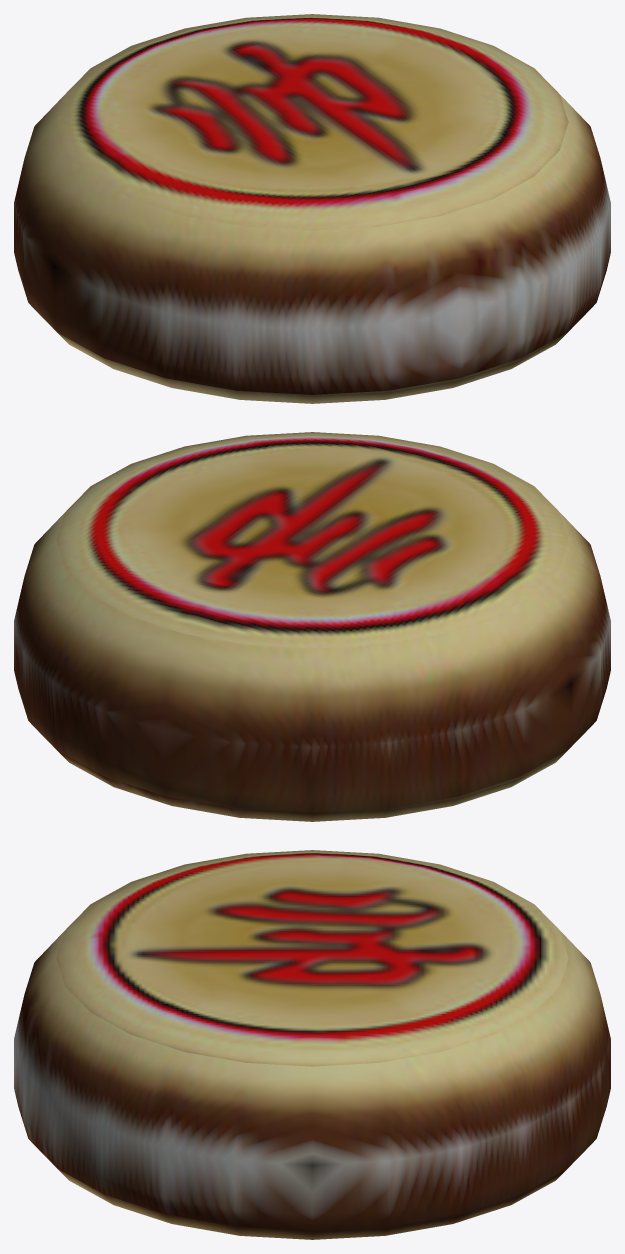
File: Red_27_general.gltf
3 renders of one model, top to bottom at view 1: azimuth 30°, elevation 25°; view 2: azimuth 150°, elevation 25°; view 3: azimuth 270°, elevation 25°, orthographic.
Parts seen in each view (by area): view 1: Red_27_general; view 2: Red_27_general; view 3: Red_27_general.
Part boxes in pixels (left/top/right/bottom): Red_27_general: left=14, top=14, right=610, bottom=403; Red_27_general: left=14, top=432, right=610, bottom=821; Red_27_general: left=14, top=850, right=610, bottom=1239.
Bounding box in the file's own units: 0.0468 × 0.0155 × 0.0468.
1 material, 1 textured.
